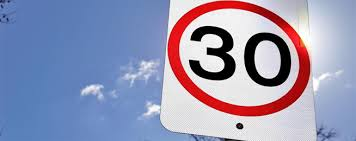sp30: (175, 1, 309, 114)
